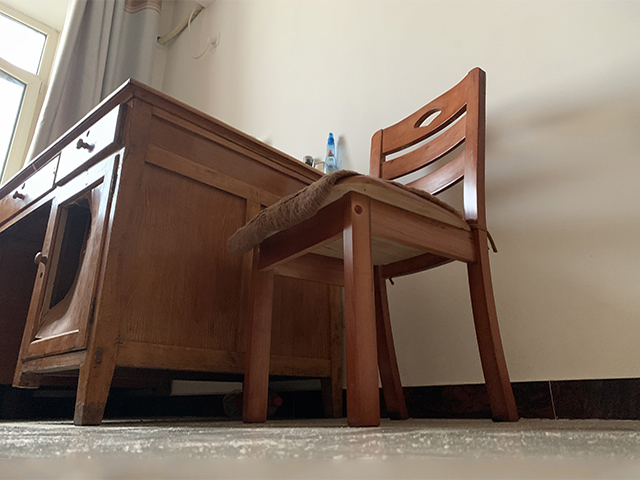stool: (226, 65, 521, 429)
table: (1, 75, 347, 427)
